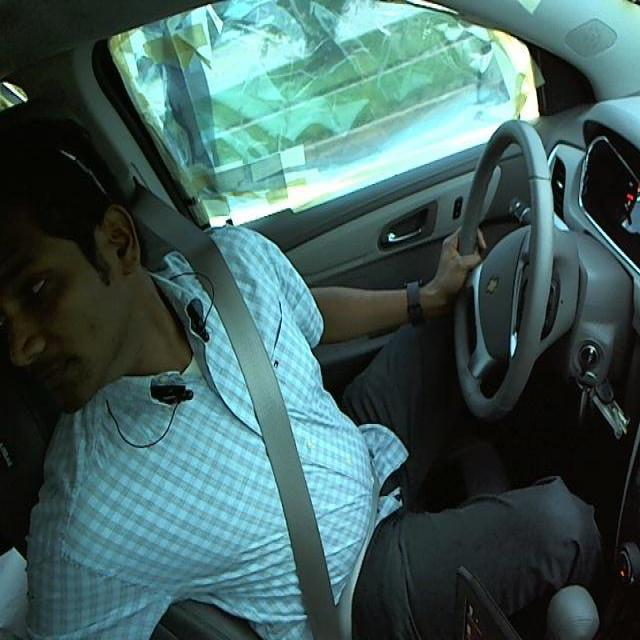seatbelt: (212, 293, 361, 628)
